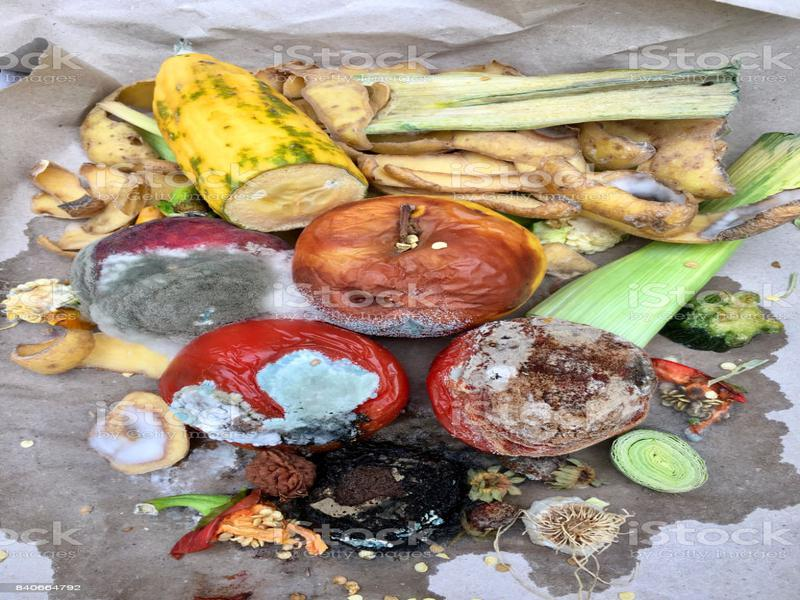vegetation: (2, 52, 800, 569)
